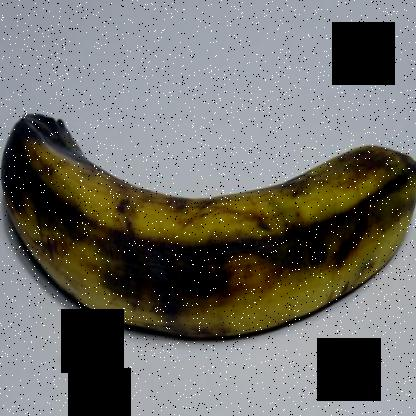overripe: (0, 84, 415, 378)
